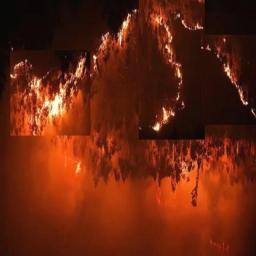Heavy smoke: (3, 25, 252, 255)
